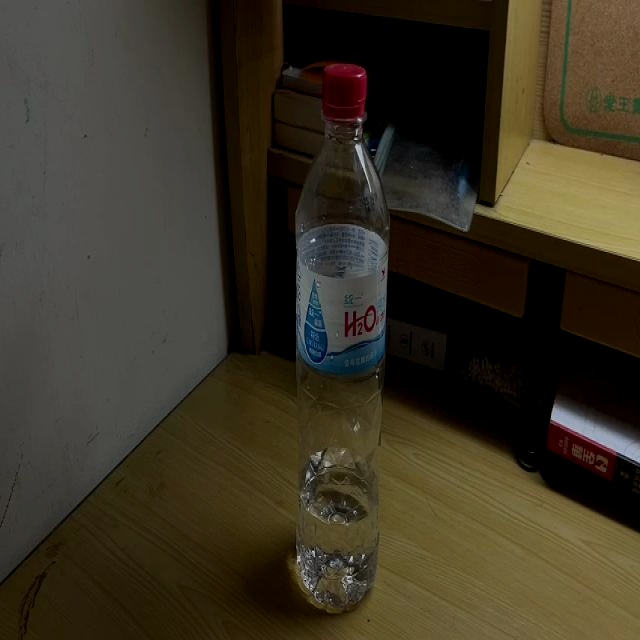Water: (296, 63, 390, 612)
